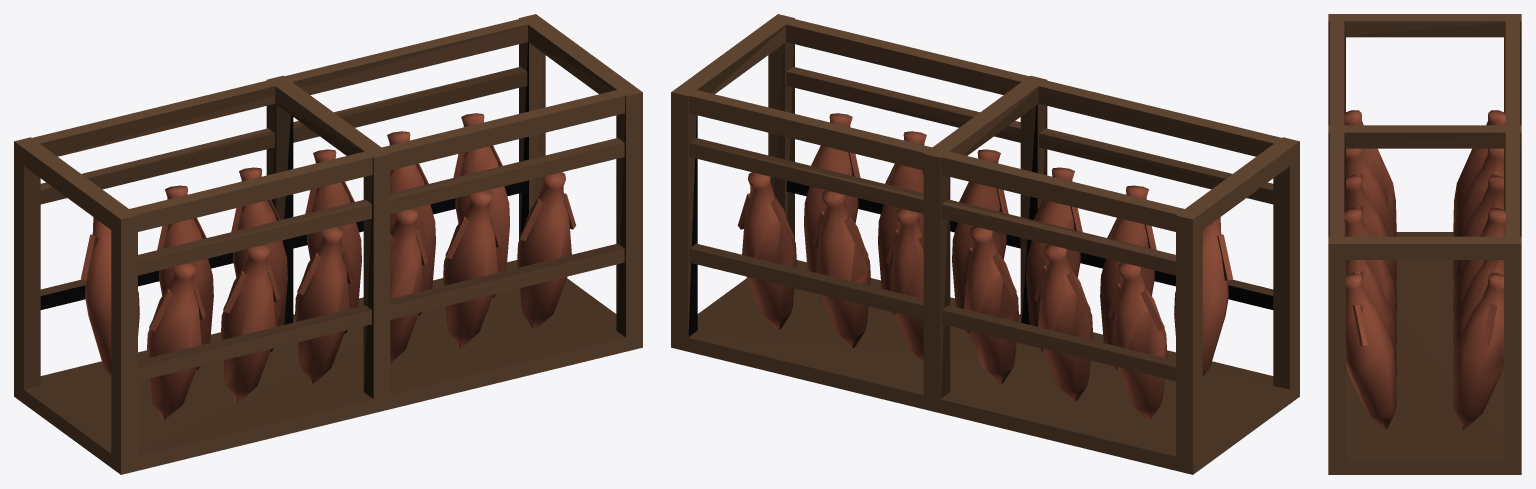
Rendered from rome_amphorae.glb.
3 views of the same model, side by side, from view 1: azimuth 30°, elevation 25°; view 2: azimuth 150°, elevation 25°; view 3: azimuth 270°, elevation 25° (orthographic). The views are drawn at different scales.
Visible parts, largest first — view 1: rome_amphorae; view 2: rome_amphorae; view 3: rome_amphorae.
Boxes of the visible parts, x1,y1,x2,y2 form: rome_amphorae: (14, 14, 642, 474); rome_amphorae: (671, 14, 1299, 474); rome_amphorae: (1328, 14, 1521, 474).
Size of the model in its own units: 3.1 by 1.45 by 1.1.
